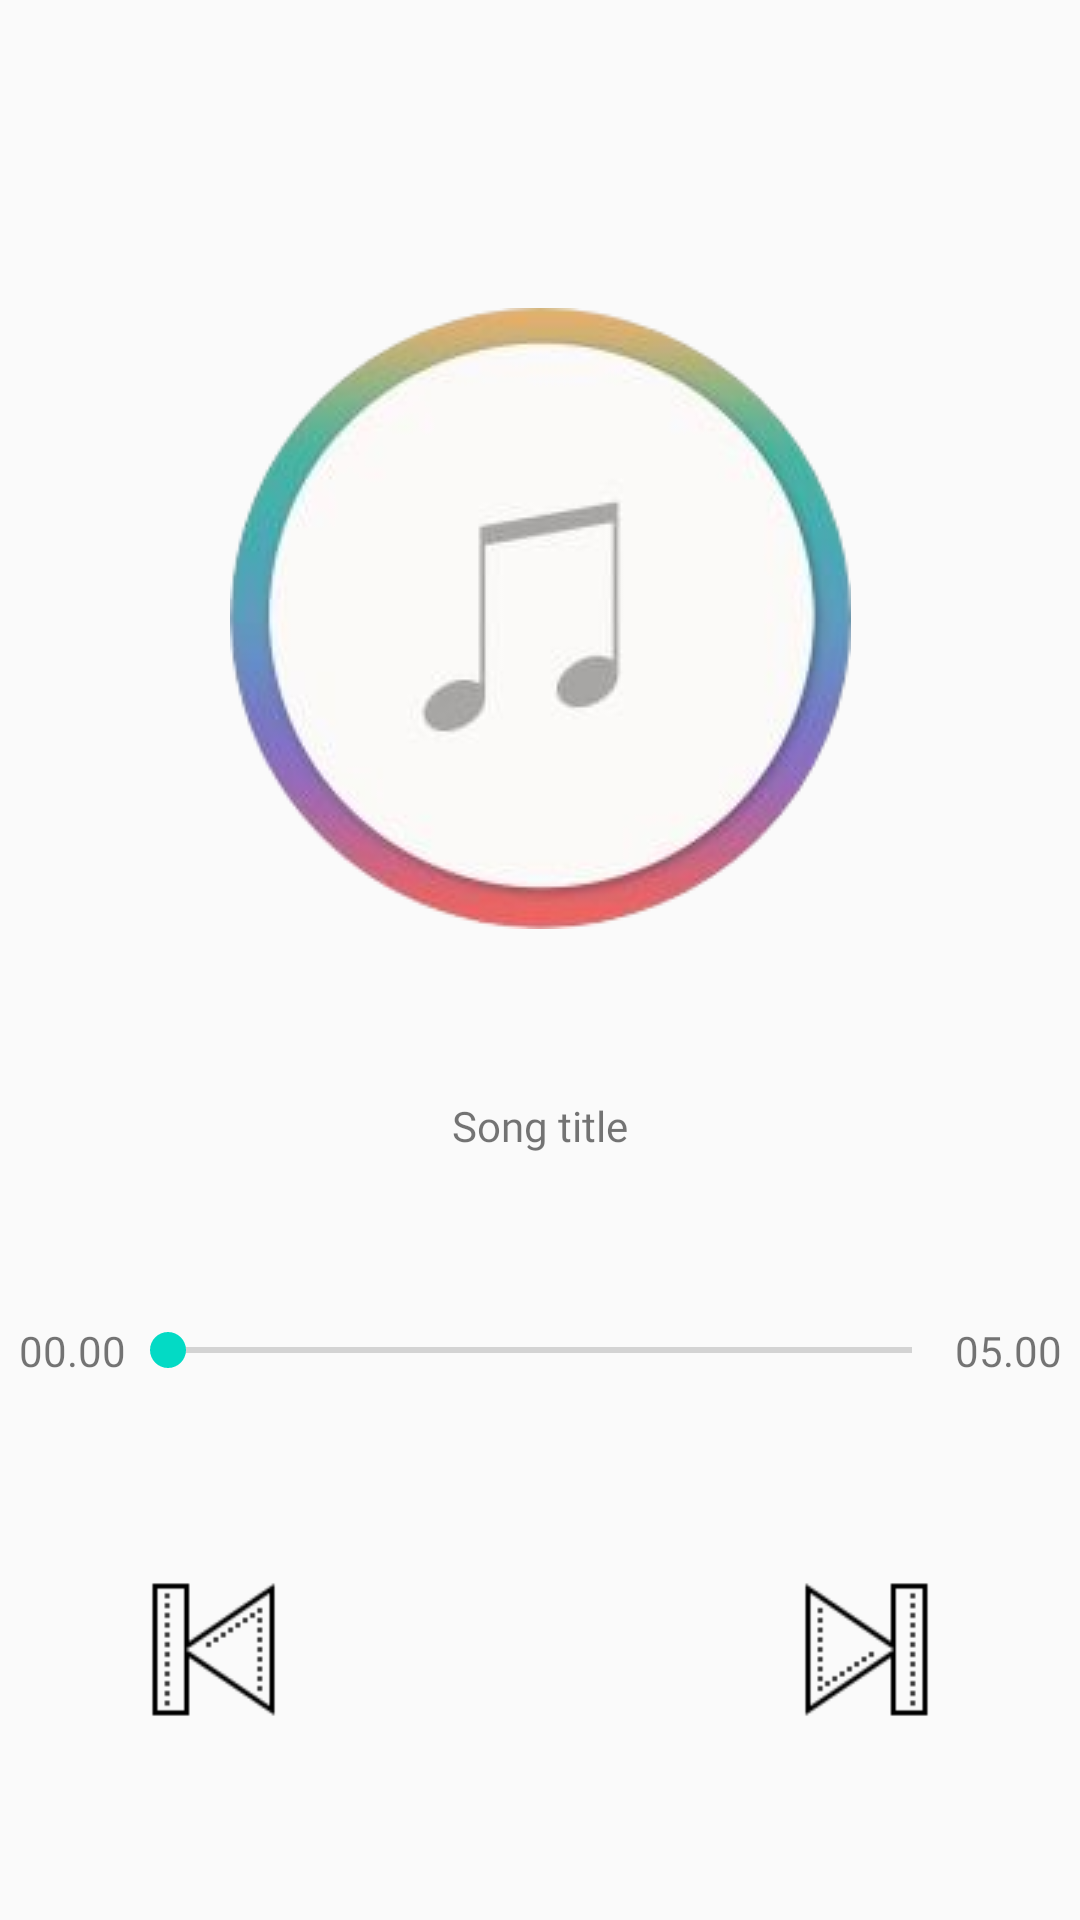

Icons on this 1080×1920 Android screen, each with the point to tap as [x,y]:
iconskipleft: [213,1649]
iconskipright: [866,1649]
